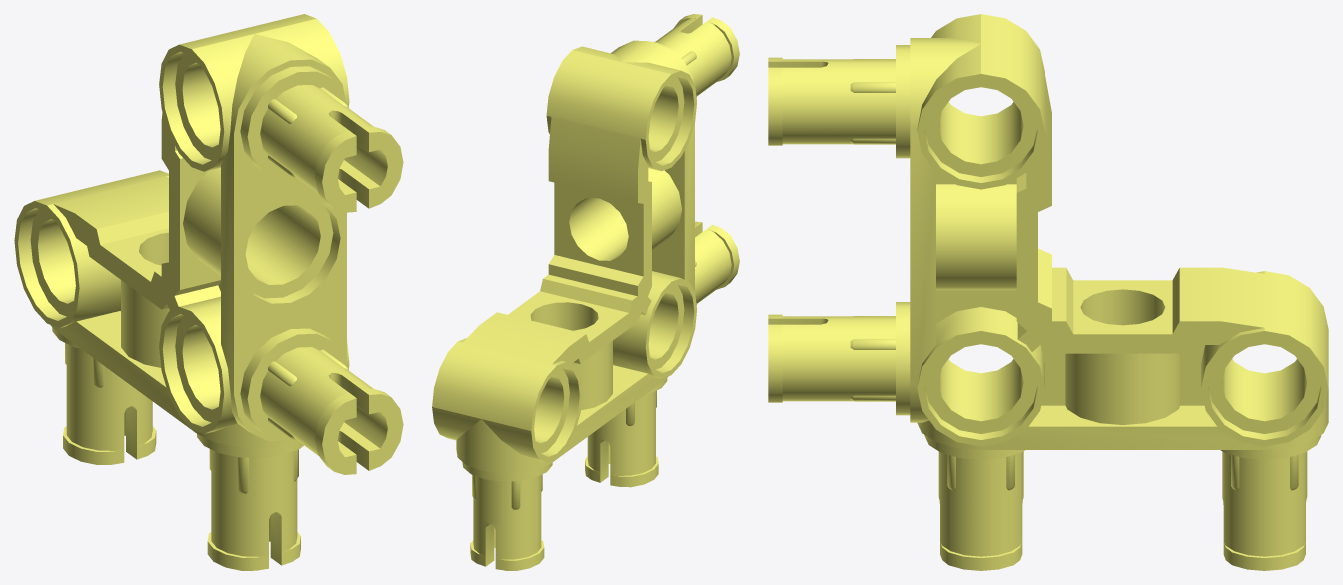
3 views of the same model, side by side, from view 1: azimuth 30°, elevation 25°; view 2: azimuth 150°, elevation 25°; view 3: azimuth 270°, elevation 25° (orthographic). The views are drawn at different scales.
Parts seen in each view (by area): view 1: 49130.dat; view 2: 49130.dat; view 3: 49130.dat.
Part boxes in pixels (box(x1,y1,x2,y2)): 49130.dat: box(14, 14, 403, 570); 49130.dat: box(432, 14, 739, 570); 49130.dat: box(768, 14, 1328, 570).
Bounding box in the file's own units: 0.008 × 0.0316 × 0.0316.
